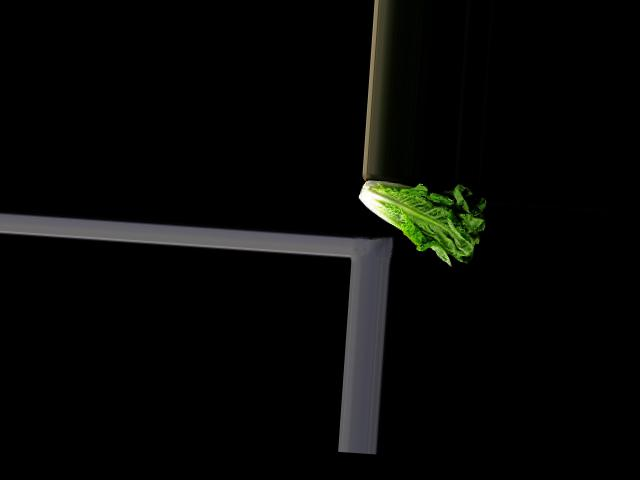lettuce: (353, 176, 490, 267)
